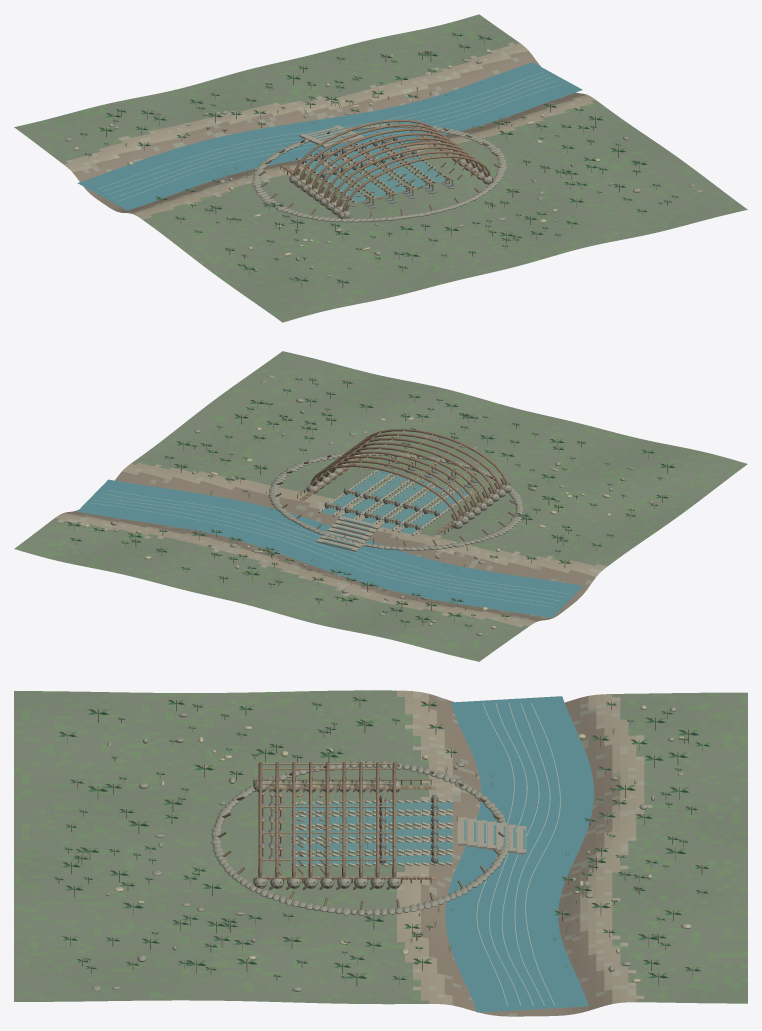
The model's file is ALC_M2_RIVER_STATION_v001.glb.
The picture shows the model from 3 angles, top to bottom: view 1: azimuth 30°, elevation 25°; view 2: azimuth 150°, elevation 25°; view 3: azimuth 270°, elevation 25°; orthographic projection. The views are drawn at different scales.
Visible parts, largest first — view 1: loam, river, moss, sand, silt, wetstone, wood, calcrete, basin_water, fern, lightleaf, root (+3 smaller); view 2: loam, river, moss, sand, silt, wetstone, wood, calcrete, basin_water, fern, lightleaf, root (+3 smaller); view 3: loam, river, moss, silt, sand, wetstone, calcrete, basin_water, wood, fern, lightleaf, root (+4 smaller).
Part boxes in pixels (x1,y1,x2,y2): loam: (14,16,747,322); river: (77,62,582,210); moss: (19,14,735,318); sand: (64,43,595,219); silt: (72,51,586,213); wetstone: (65,55,703,277); wood: (280,119,492,213); calcrete: (66,42,582,215); basin_water: (298,126,446,202); fern: (79,34,678,283); lightleaf: (80,33,678,282); root: (83,33,675,287); loam: (19,351,747,661); river: (77,479,582,617); moss: (14,355,739,660); sand: (55,463,607,626); silt: (64,471,595,621); wetstone: (82,375,653,635); wood: (297,429,509,532); calcrete: (57,464,601,627); basin_water: (321,470,467,548); fern: (67,379,674,626); lightleaf: (67,378,675,625); root: (74,378,667,629); loam: (14,690,747,1004); river: (445,696,593,1012); moss: (14,690,747,1003); silt: (305,694,620,1016); sand: (305,690,644,1005); wetstone: (92,696,685,1016); calcrete: (291,691,652,998); basin_water: (291,802,525,864); wood: (254,762,431,879); fern: (54,699,710,979); lightleaf: (54,697,710,978); root: (58,697,702,985).
Size of the model in its own units: 83.67 by 9.33 by 82.
